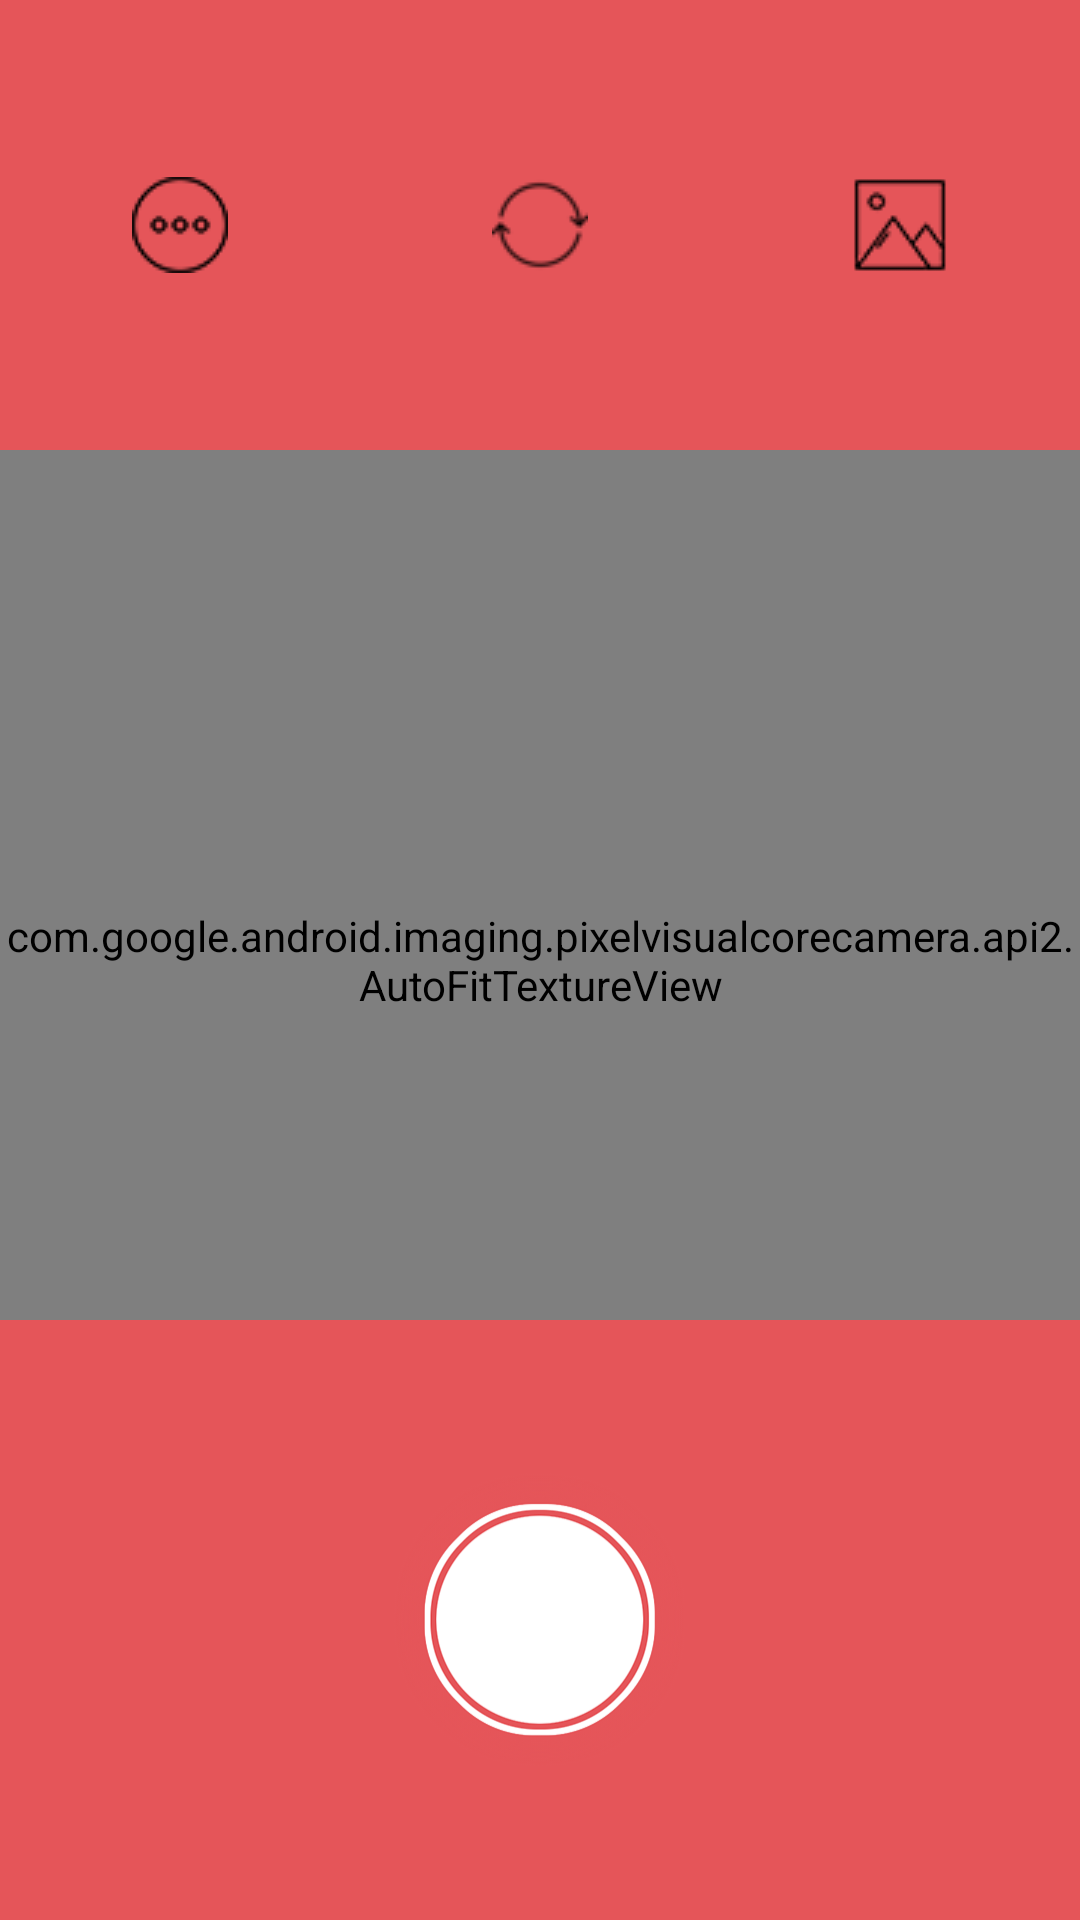

Where to tap for icons on this 1080*1920 app screen, as point (x, y):
gallery: point (900, 225)
more: point (180, 225)
reload: point (540, 225)
